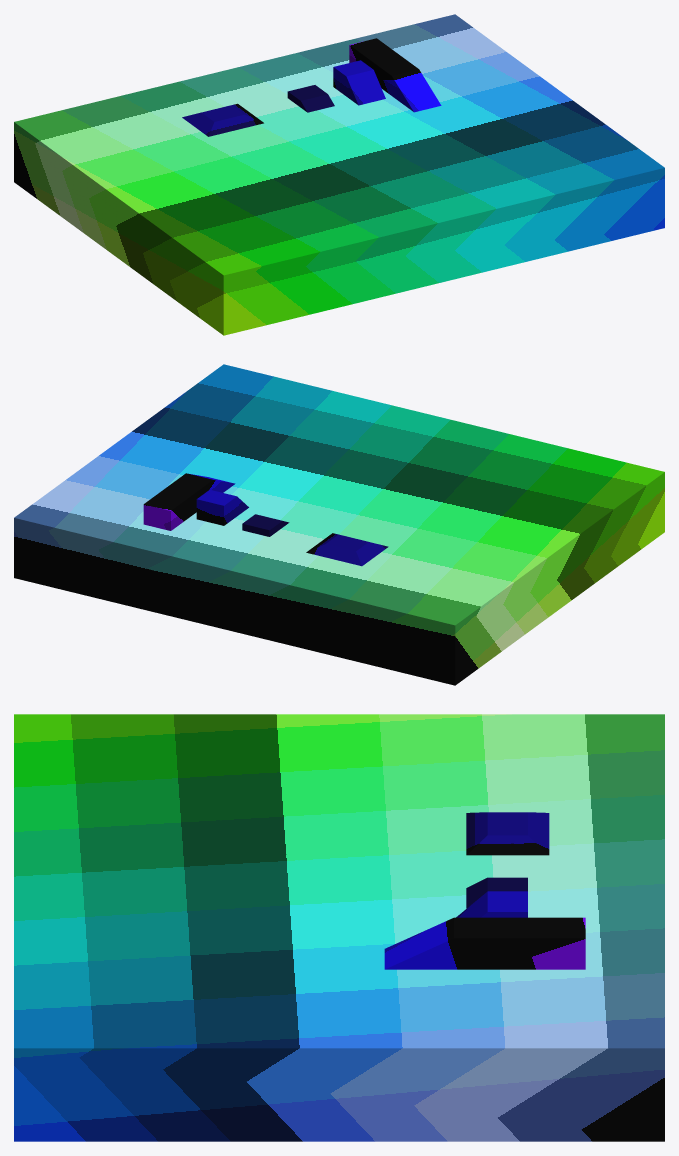
Rendered from test_level.glb.
3 renders of one model, top to bottom at view 1: azimuth 30°, elevation 25°; view 2: azimuth 150°, elevation 25°; view 3: azimuth 270°, elevation 25°, orthographic. The views are drawn at different scales.
Parts seen in each view (by area): view 1: Cube; view 2: Cube; view 3: Cube.
Part boxes in pixels (bbox=[...]): Cube: bbox=[14, 14, 664, 335]; Cube: bbox=[14, 364, 664, 685]; Cube: bbox=[14, 714, 664, 1141].
Size of the model in its own units: 46.17 by 8.04 by 38.01.
1 material, 1 textured.
